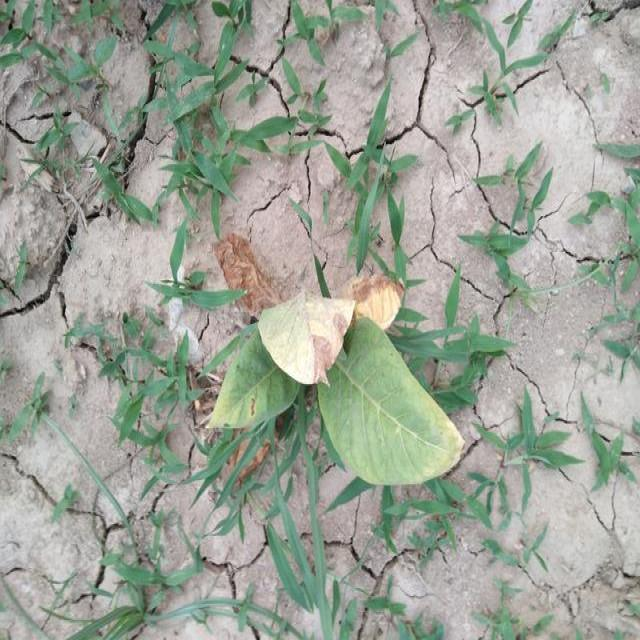crop: (203, 276, 451, 486)
